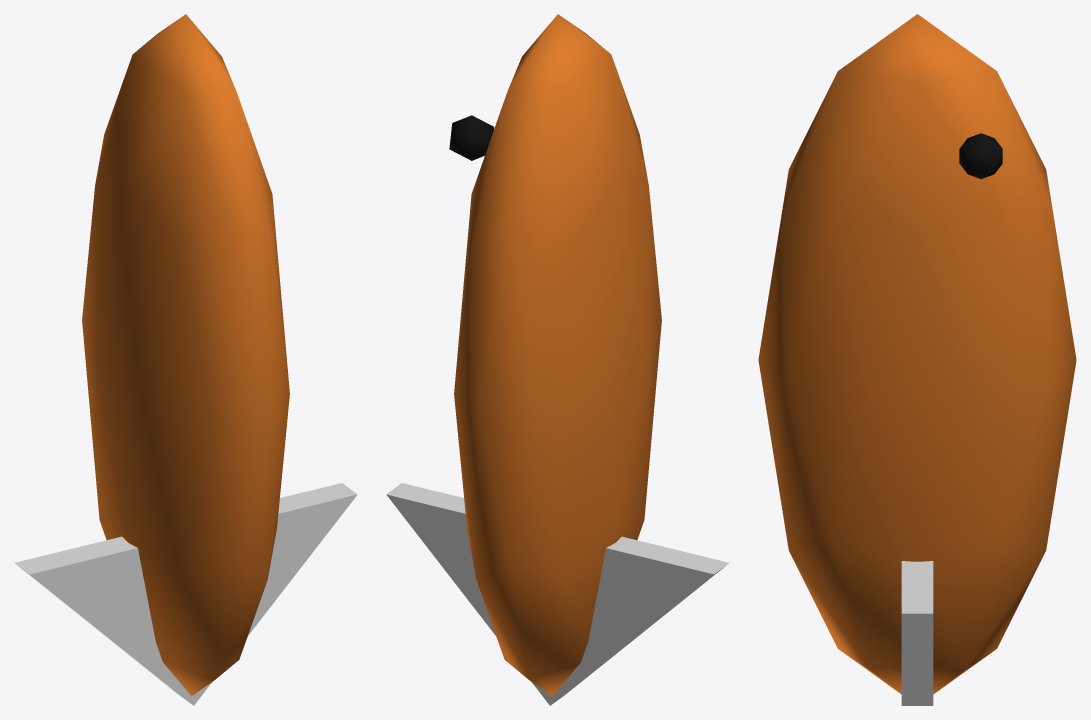
Rendered from clownfish.glb.
The picture shows the model from 3 angles, left to right: view 1: azimuth 30°, elevation 25°; view 2: azimuth 150°, elevation 25°; view 3: azimuth 270°, elevation 25°; orthographic projection.
Visible parts, largest first — view 1: clownfish_v0; view 2: clownfish_v0; view 3: clownfish_v0.
Boxes of the visible parts, x1,y1,x2,y2 form: clownfish_v0: (14, 14, 357, 705); clownfish_v0: (386, 14, 729, 705); clownfish_v0: (758, 14, 1076, 705).
Bounding box in the file's own units: 0.12 × 0.24 × 0.1.
